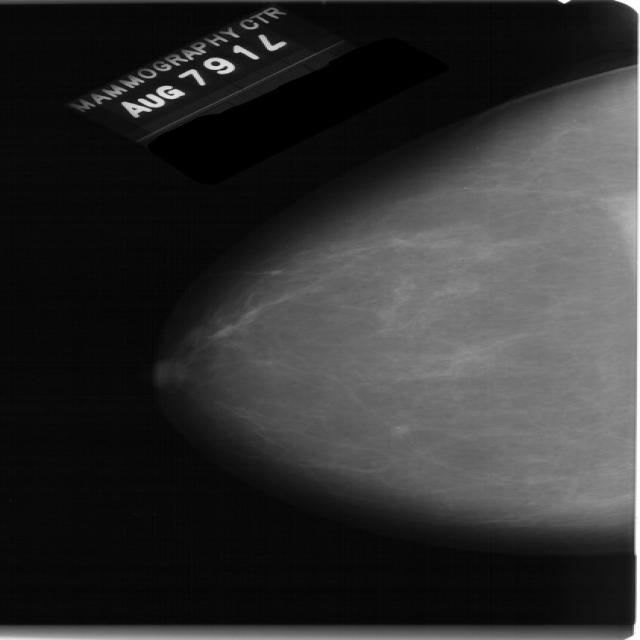tumour: (387, 423, 408, 435)
